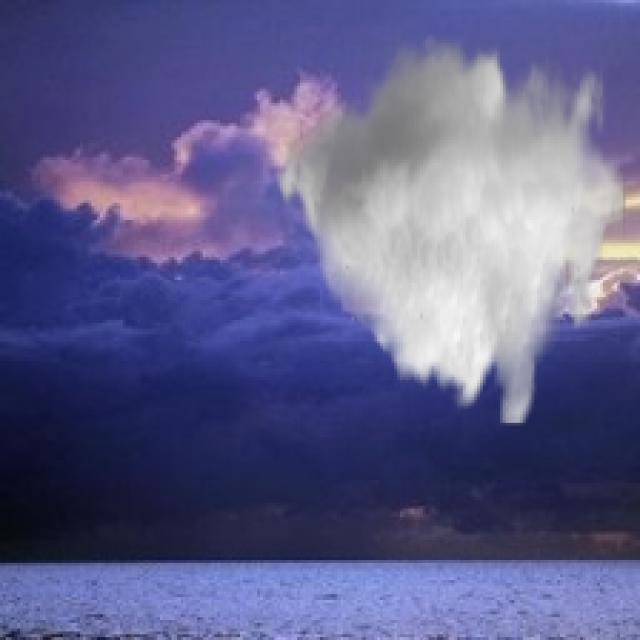Smoke: (268, 34, 626, 426)
